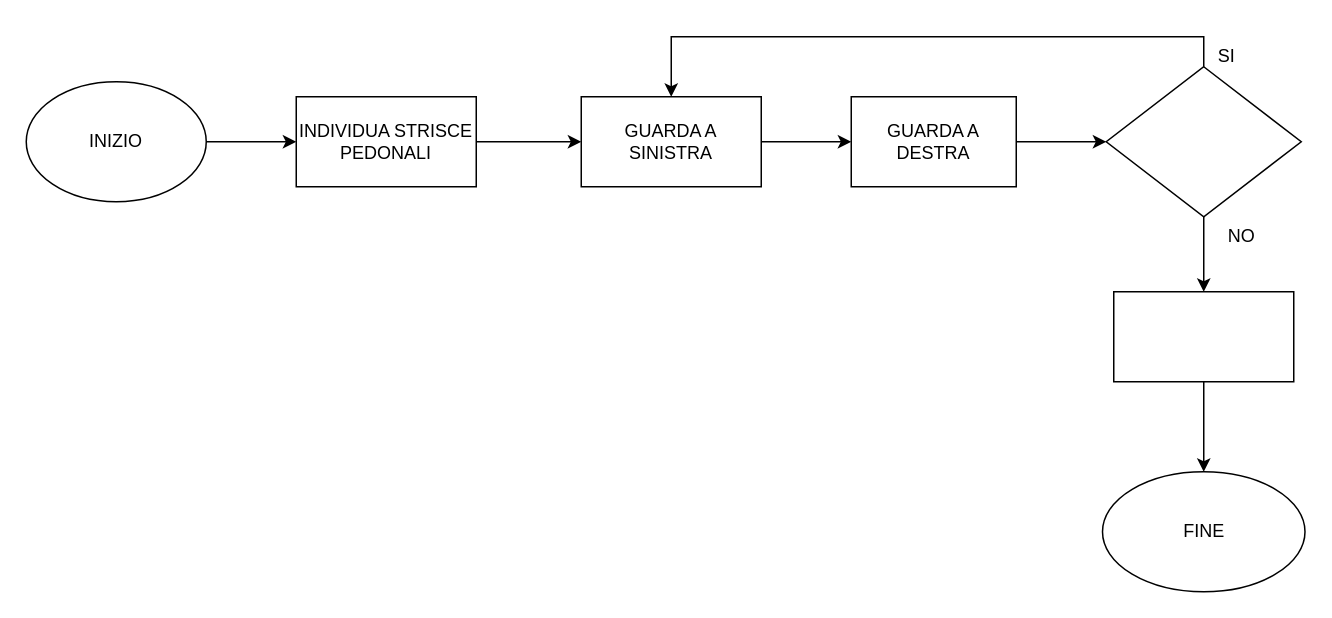
The diagram is 1332 pixels wide and 618 high, and some of its shapes have lost their labels. Here are the shapes that lost their labels. From the top down, the box of each, then its label:
(1105, 65, 1301, 217): PASSANO VEICOLI?
(1112, 290, 1294, 382): ATTRAVERSA
